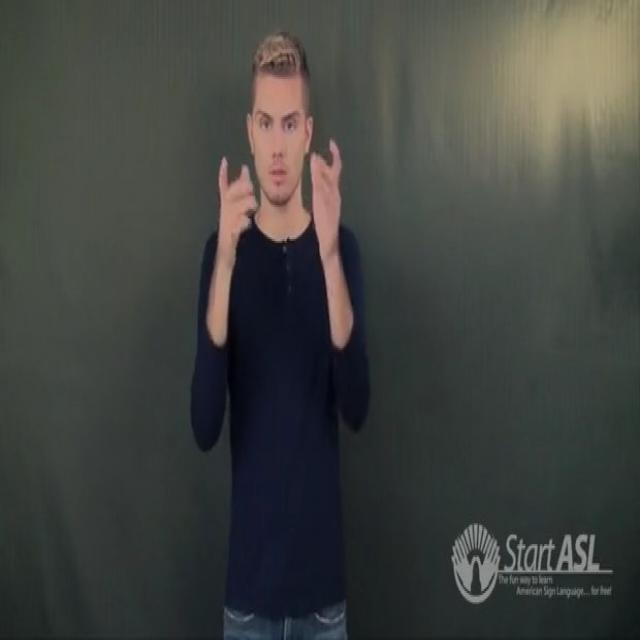manager: (210, 128, 354, 342)
